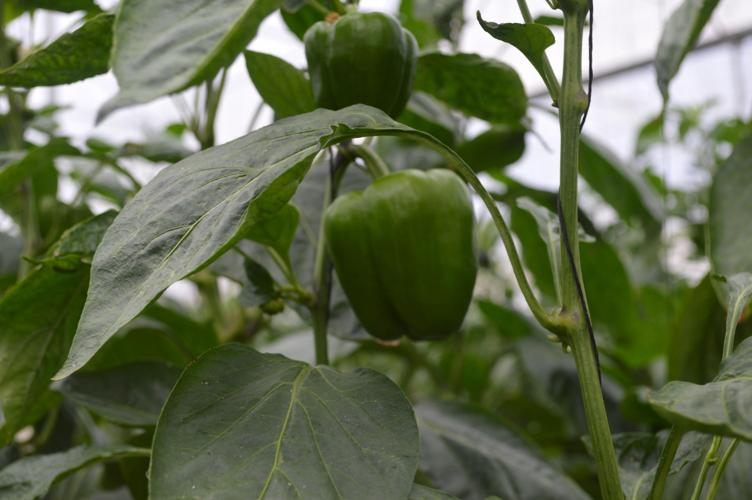BellPepper: (321, 170, 479, 338), (299, 10, 416, 118)
